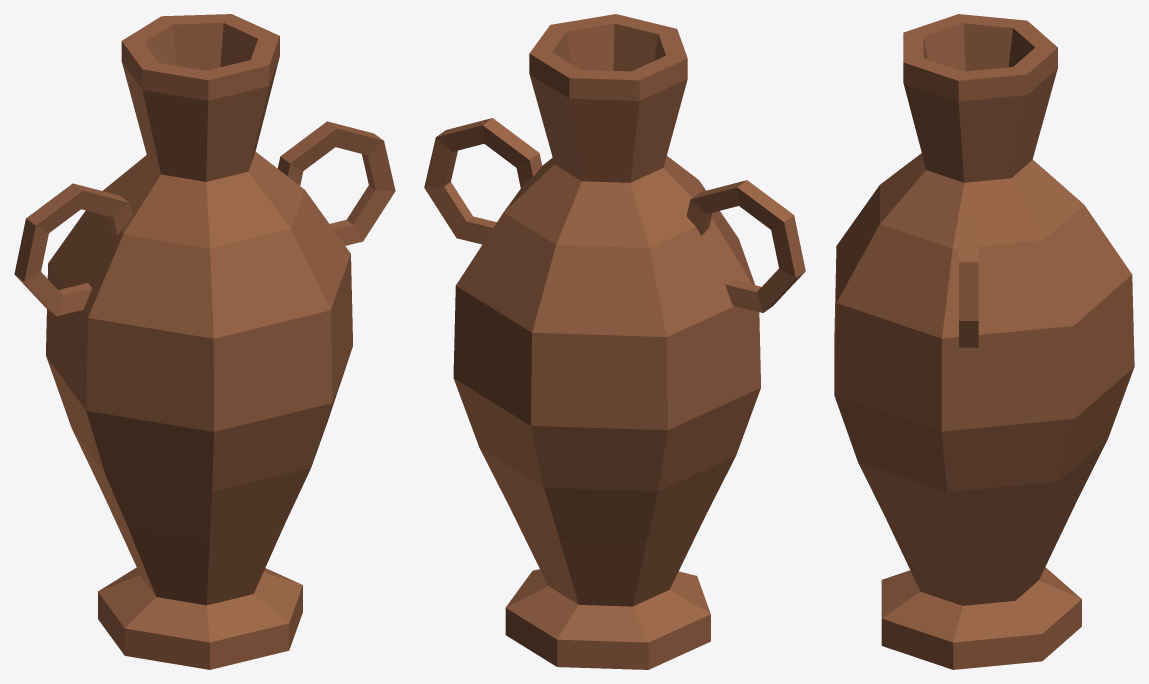
Rendered from container-3.fbx.
3 renders of one model, left to right at view 1: azimuth 30°, elevation 25°; view 2: azimuth 150°, elevation 25°; view 3: azimuth 270°, elevation 25°, orthographic.
Parts seen in each view (by area): view 1: container-3; view 2: container-3; view 3: container-3.
Boxes of the visible parts, x1,y1,x2,y2 form: container-3: [14, 14, 395, 669]; container-3: [424, 14, 805, 669]; container-3: [834, 14, 1134, 669].
Size of the model in its own units: 0.4206 by 0.6272 by 0.2947.
